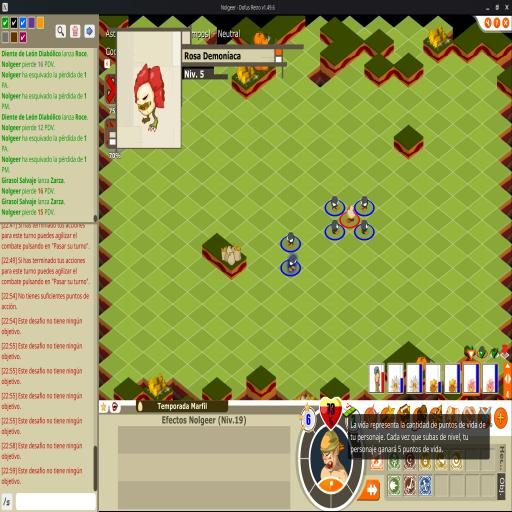Enemigos: (330, 219, 341, 236), (359, 219, 370, 236), (287, 254, 297, 272), (330, 196, 341, 212), (358, 196, 369, 212), (285, 232, 295, 248)
Personaje: (346, 204, 356, 224)
